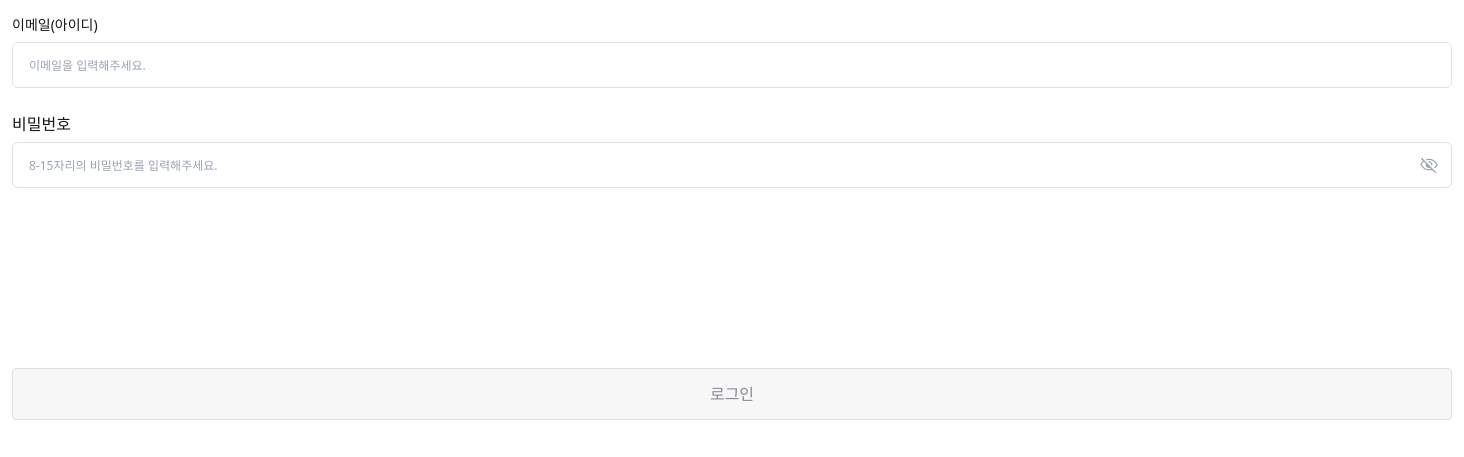
Test: LoginForm › 유효하지 않은 이메일 형식을 입력하면 에러 메시지가 표시되어야 합니다
Type "invalid-email" into the field with placeholder "이메일을 입력해주세요.". click: (732, 65)
box: [12,42,1452,88]
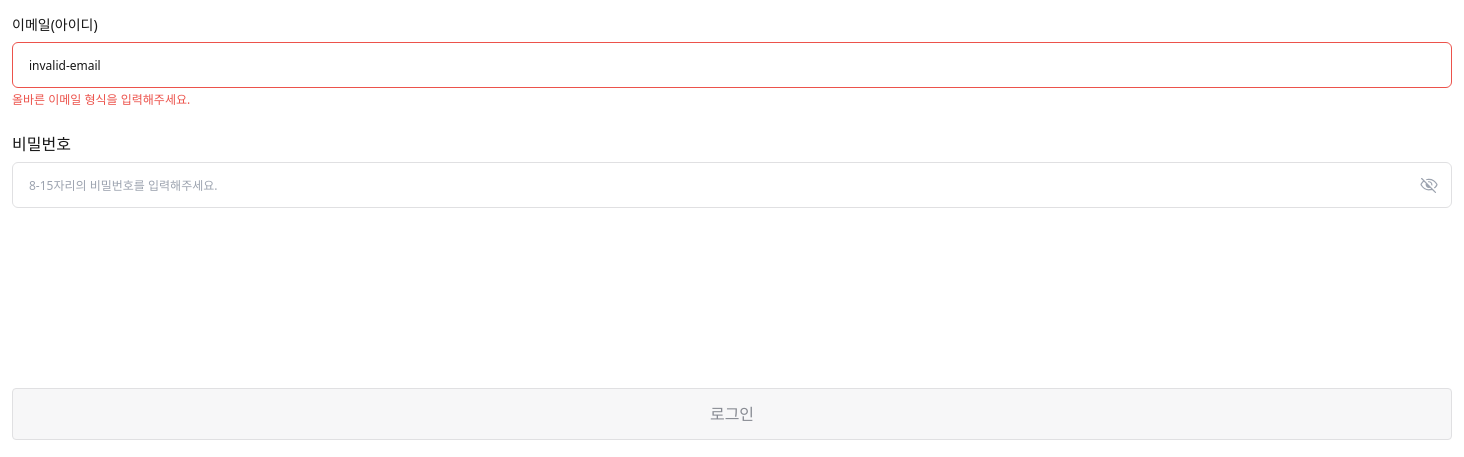
Check: the text "올바른 이메일 형식을 입력해주세요." is shown, box [12,91,190,108]
